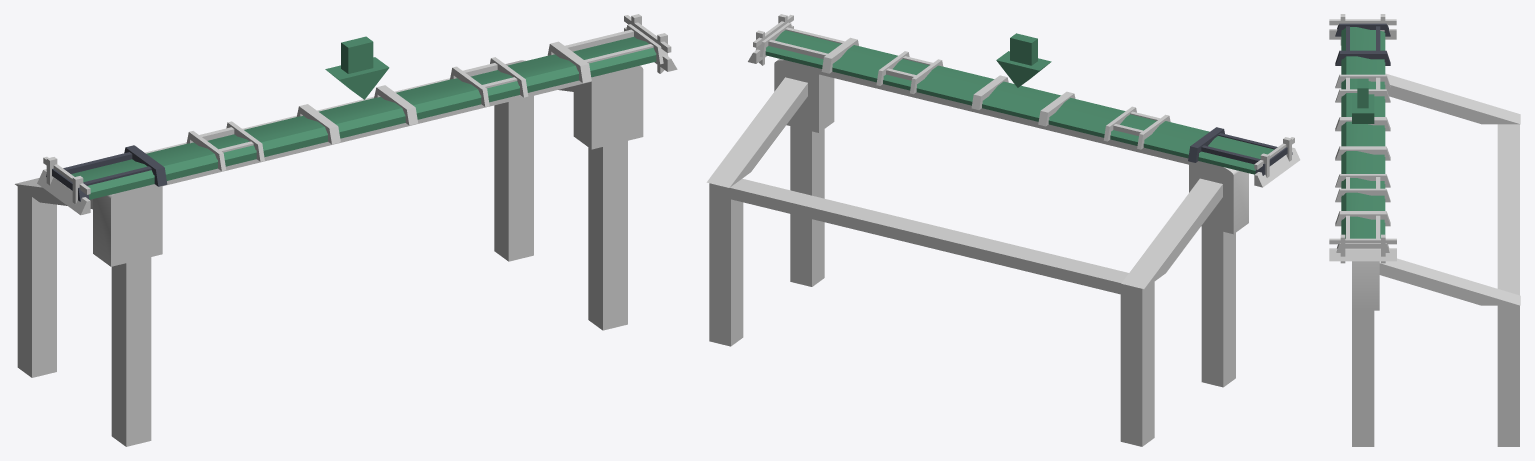
Rendered from Goal.fbx.
The picture shows the model from 3 angles, left to right: view 1: azimuth 30°, elevation 25°; view 2: azimuth 150°, elevation 25°; view 3: azimuth 270°, elevation 25°; orthographic projection. The views are drawn at different scales.
Visible parts, largest first — view 1: detail_convertibleDown%_18, detail_rollbar_33, block_default_35, block_default_34, block_default_36, block_default_37, detail_roofDoubleRails%_17, detail_roofDoubleRails%_19, detail_bullbar_25, detail_roofDoubleRails%_22, detail_roofDoubleRails%_23, detail_roofRails%_21 (+2 smaller); view 2: detail_rollbar_33, detail_convertibleDown%_18, block_default_38, block_default_36, block_default_35, block_default_37, block_default_34, detail_roofDoubleRails%_17, detail_roofDoubleRails%_19, detail_bullbar_25, detail_roofDoubleRails%_22, detail_roofDoubleRails%_23 (+3 smaller); view 3: detail_rollbar_33, detail_convertibleDown%_18, block_default_38, block_default_37, block_default_34, detail_bullbar_24, detail_roofDoubleRails%_19, detail_roofDoubleRails%_17, detail_roofDoubleRails%_22, detail_roofDoubleRails%_23, detail_roofRails%_21, detail_bullbar_25 (+2 smaller).
Boxes of the visible parts, x1,y1,x2,y2 form: detail_convertibleDown%_18: [71, 37, 656, 199]; detail_rollbar_33: [15, 60, 643, 266]; block_default_35: [111, 257, 151, 446]; block_default_34: [588, 141, 627, 330]; block_default_36: [17, 186, 56, 377]; block_default_37: [494, 96, 533, 261]; detail_roofDoubleRails%_17: [547, 24, 668, 82]; detail_roofDoubleRails%_19: [46, 145, 167, 201]; detail_bullbar_25: [37, 156, 90, 215]; detail_roofDoubleRails%_22: [450, 57, 528, 106]; detail_roofDoubleRails%_23: [186, 121, 264, 171]; detail_roofRails%_21: [296, 85, 418, 144]; detail_rollbar_33: [706, 59, 1248, 288]; detail_convertibleDown%_18: [765, 30, 1274, 174]; block_default_38: [720, 179, 1131, 296]; block_default_36: [1120, 281, 1154, 446]; block_default_35: [1201, 226, 1235, 387]; block_default_37: [709, 178, 743, 346]; block_default_34: [790, 126, 824, 286]; detail_roofDoubleRails%_17: [755, 22, 858, 73]; detail_roofDoubleRails%_19: [1188, 127, 1292, 175]; detail_bullbar_25: [1254, 137, 1300, 187]; detail_roofDoubleRails%_22: [876, 51, 943, 94]; detail_roofDoubleRails%_23: [1103, 106, 1170, 149]; detail_rollbar_33: [1352, 73, 1520, 310]; detail_convertibleDown%_18: [1341, 27, 1385, 238]; block_default_38: [1497, 124, 1519, 295]; block_default_37: [1497, 305, 1519, 446]; block_default_34: [1352, 310, 1374, 446]; detail_bullbar_24: [1329, 234, 1396, 263]; detail_roofDoubleRails%_19: [1335, 23, 1390, 65]; detail_roofDoubleRails%_17: [1335, 211, 1390, 252]; detail_roofDoubleRails%_22: [1335, 174, 1390, 202]; detail_roofDoubleRails%_23: [1335, 74, 1390, 102]; detail_roofRails%_21: [1335, 117, 1390, 160]; detail_bullbar_25: [1329, 14, 1396, 45].
Size of the model in its own units: 47.6 by 26 by 17.08.
